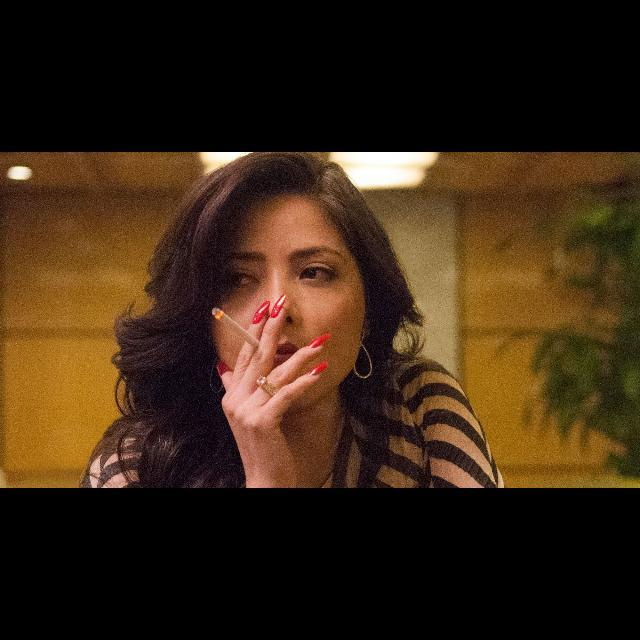rokok: (210, 306, 268, 350)
